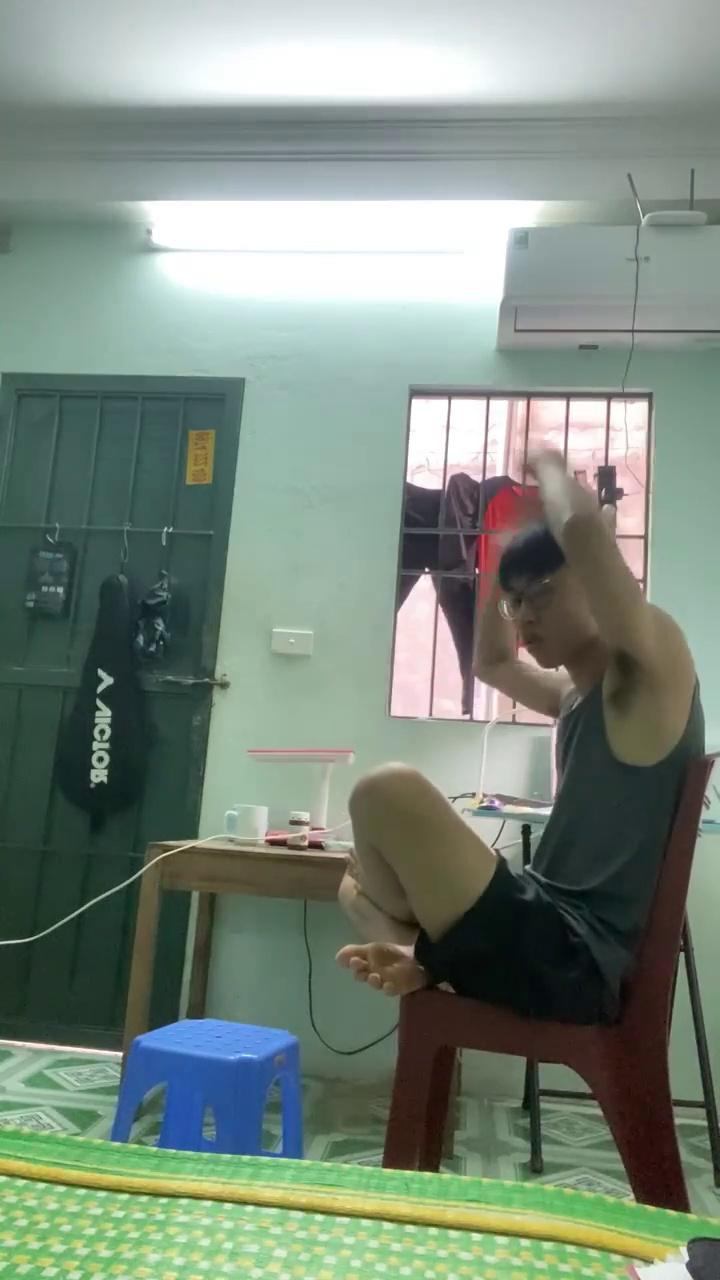BadPosture: (337, 765, 609, 1024)
